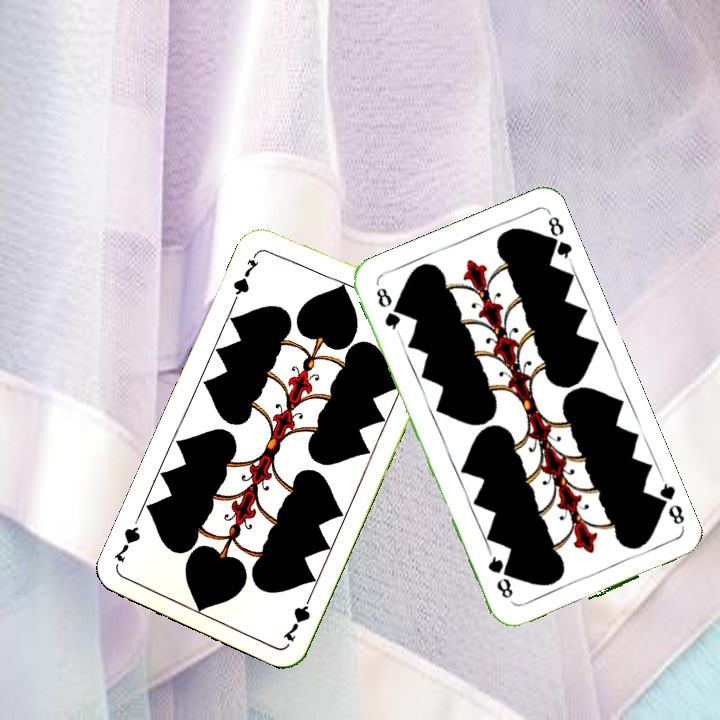G7: (278, 589, 315, 644), (229, 248, 262, 304)
G8: (650, 476, 688, 533), (372, 283, 404, 337)
